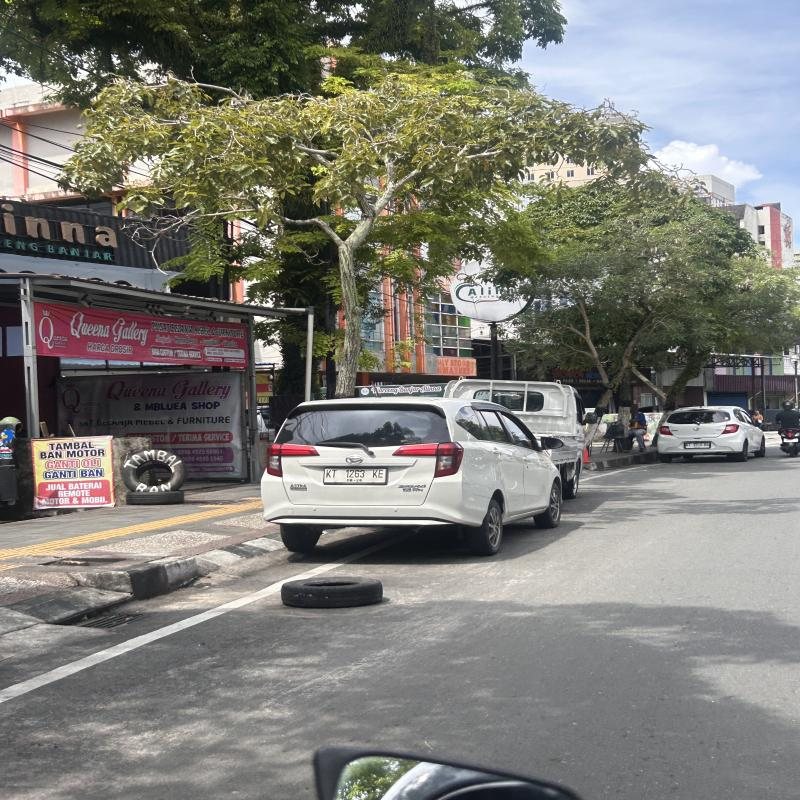license plate on a car: (324, 467, 387, 483), (685, 442, 710, 448)
